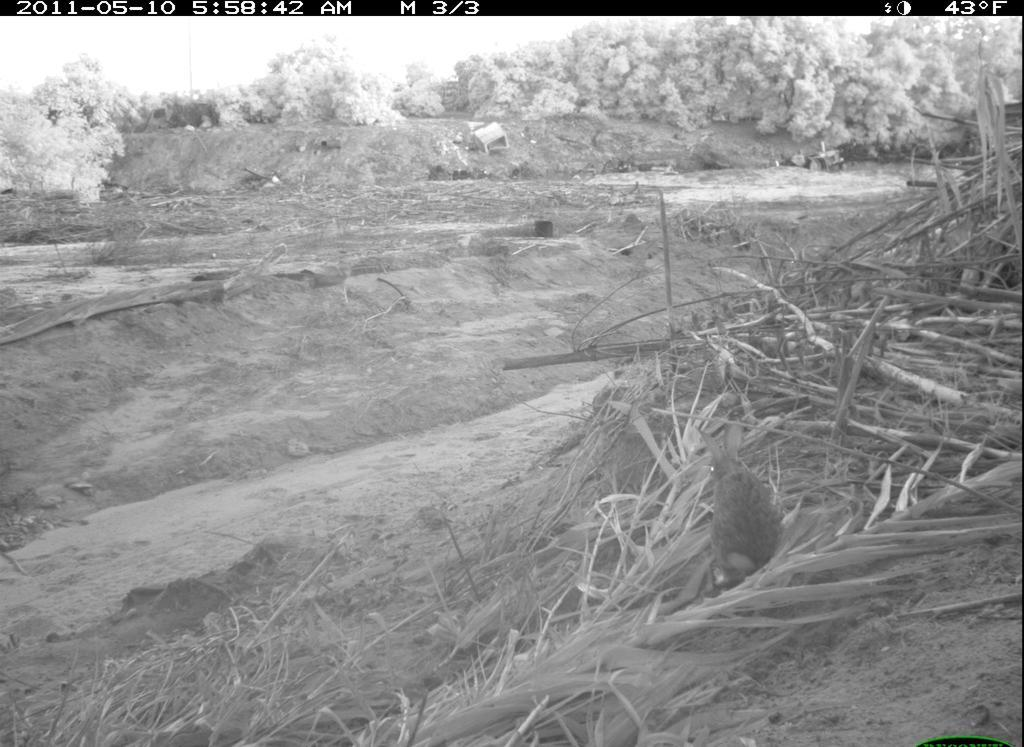rabbit: (684, 414, 801, 598)
